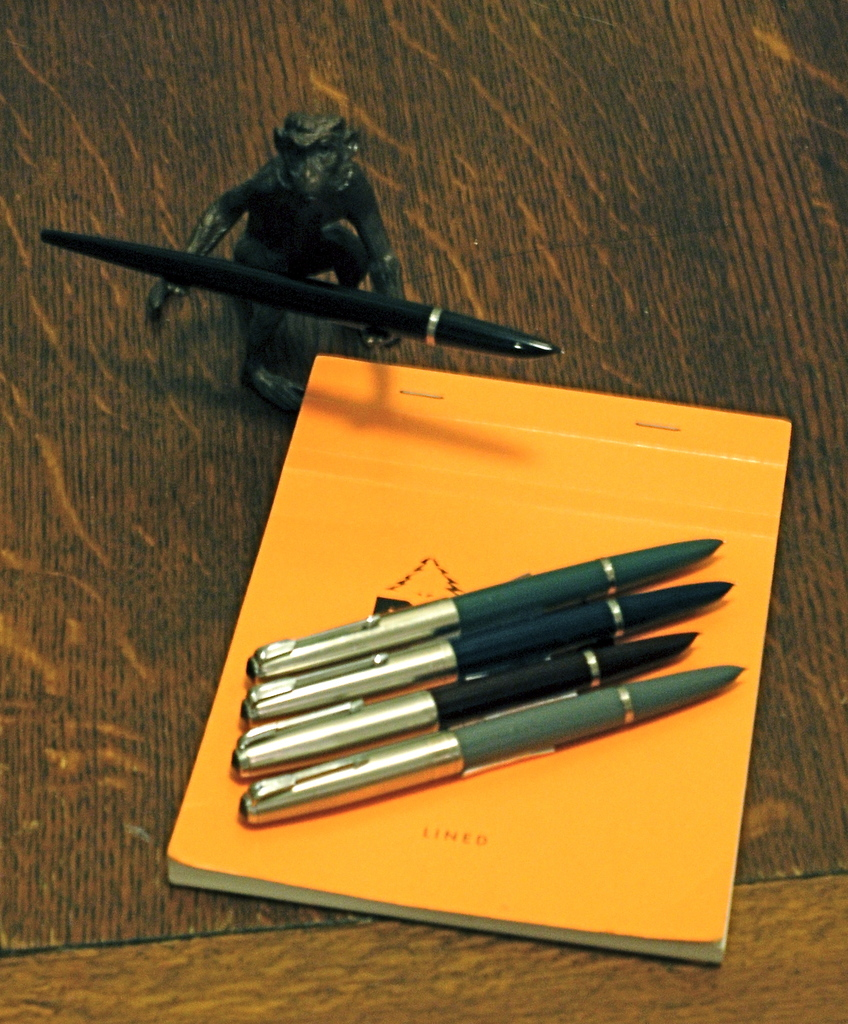Pen: (225, 533, 746, 826), (35, 228, 561, 357)
